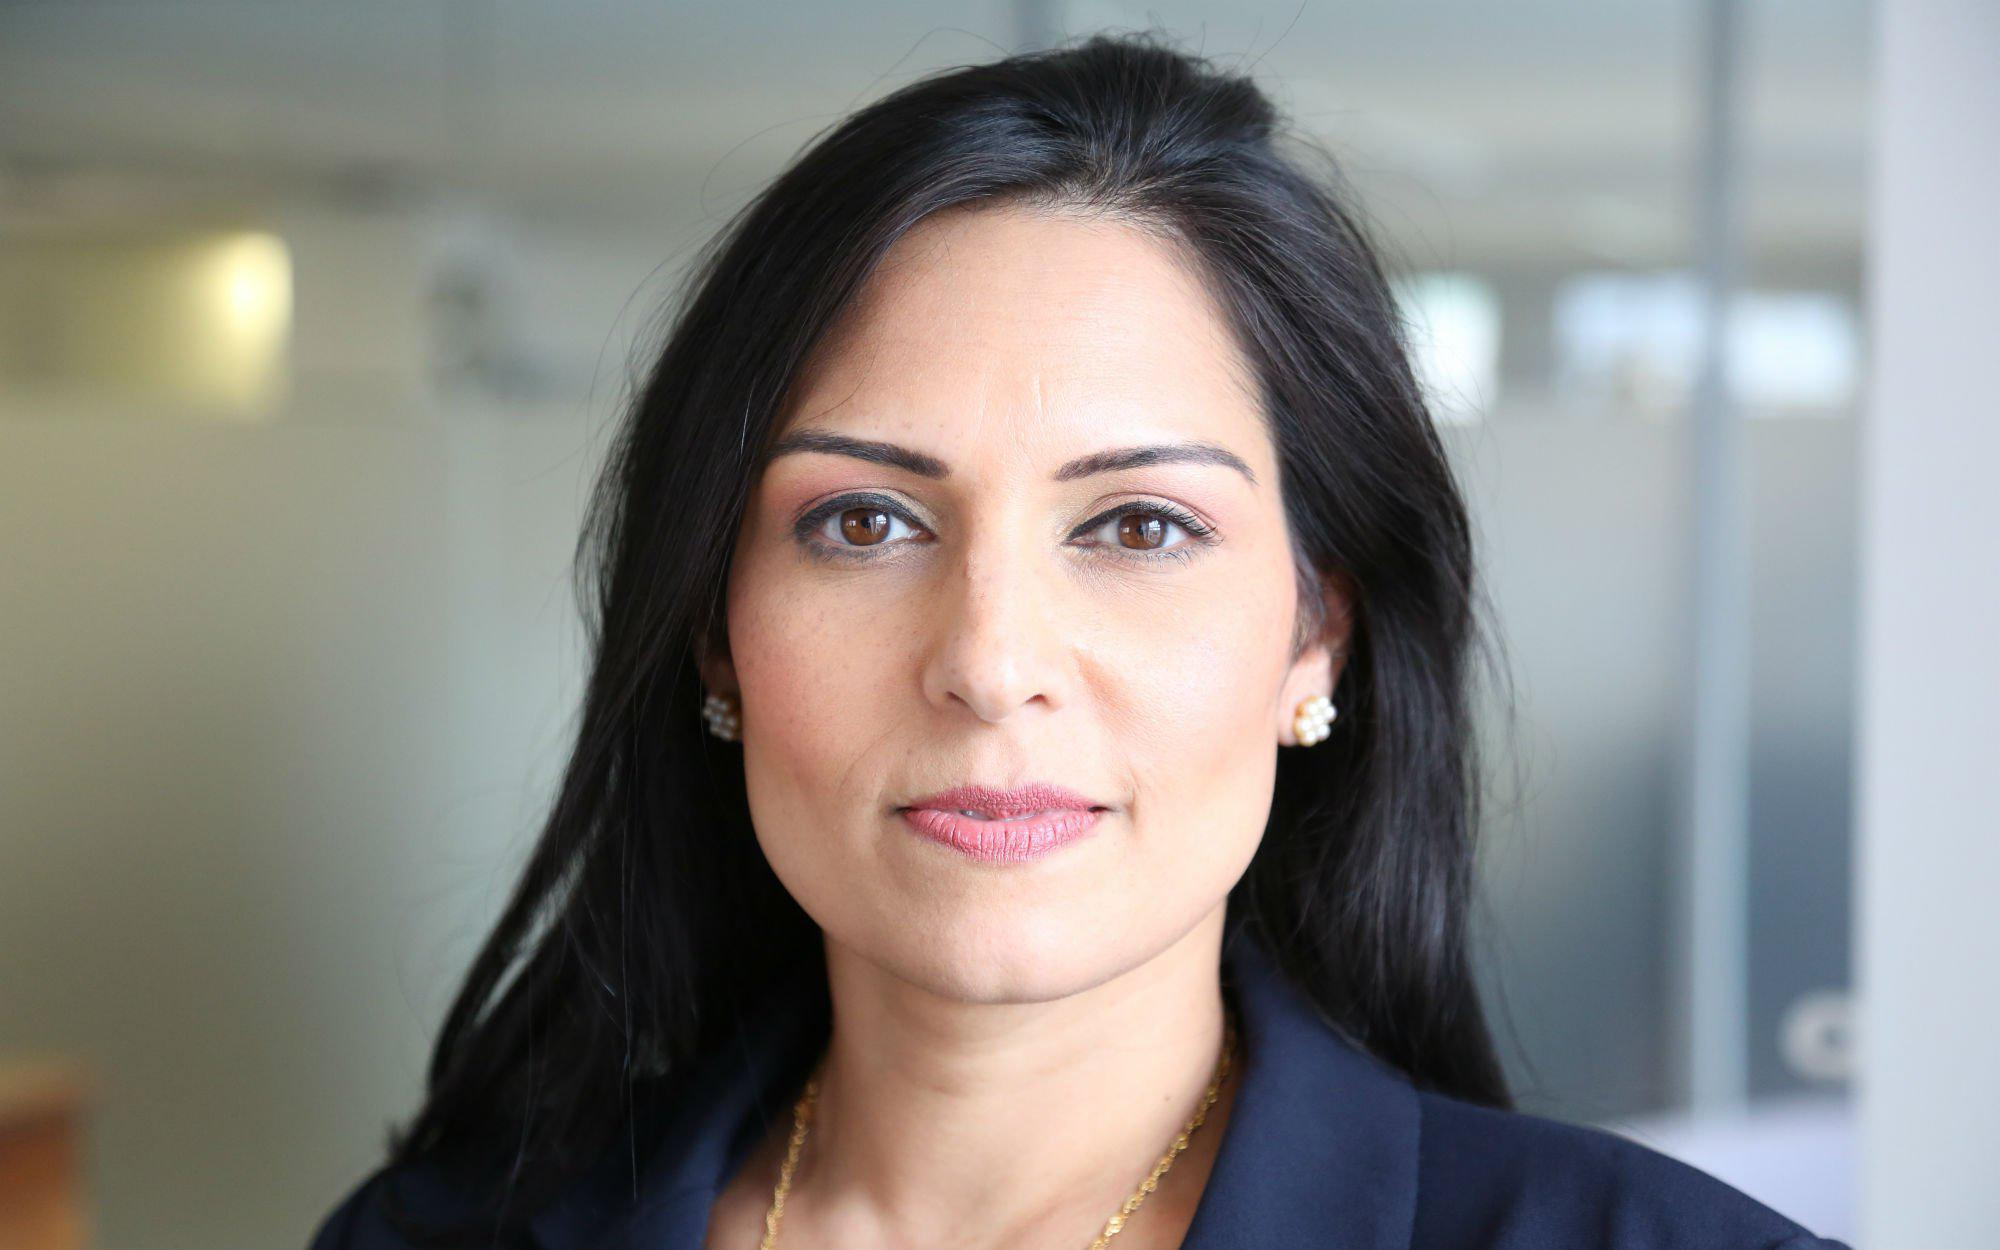Sober: (747, 281, 1269, 937)
